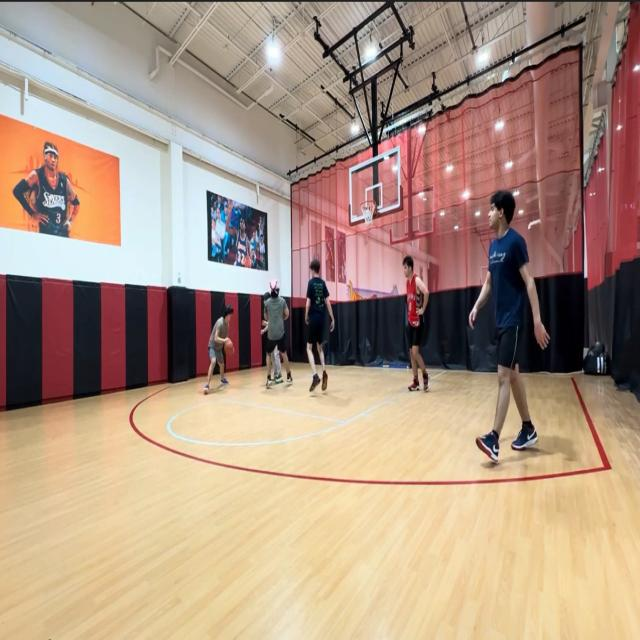Basketball: (224, 340, 234, 355)
Basketball Rim: (361, 198, 376, 224)
